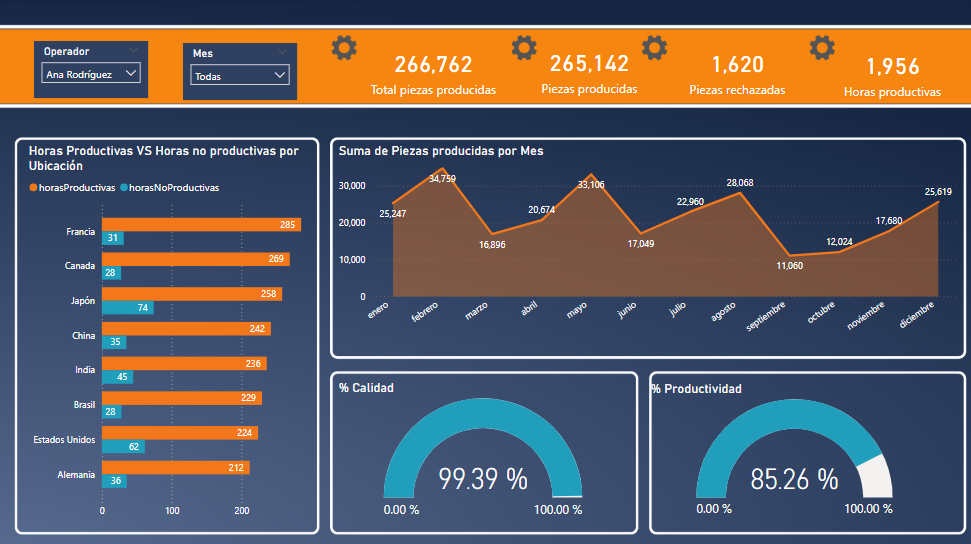

Layout of this report page (visuals, bound fields, positions):
{"tool":"powerbi","page":{"name":"Página 1","canvas":[1280,720],"ordinal":0},"visuals":[{"type":"card","fields":{"Values":["Producción.totalPiezasBuenasProducidas"]},"box":[687.2,26.3,180,132.7],"z":0},{"type":"card","fields":{"Values":["Producción.totalPiezasRechazadas"]},"box":[831.7,27.6,279.9,132.7],"z":1000},{"type":"card","fields":{"Values":["Producción.totalPiezasProducidas"]},"box":[432.3,27.6,279.9,132.7],"z":2000},{"type":"clusteredBarChart","title":"Horas Productivas VS Horas no productivas por Ubicación","fields":{"Category":["Producción.Ubicación"],"Y":["Producción.horasProductivas","Producción.horasNoProductivas"]},"box":[35.8,188.9,377.8,501.6],"z":3000},{"type":"card","fields":{"Values":["Producción.horasProductivas"]},"box":[1083.9,27.6,182.6,136.6],"z":4000},{"type":"areaChart","fields":{"Category":["Producción.Fecha inicio.Variación.Jerarquía de fechas.Mes"],"Y":["Sum(Producción.Piezas producidas)"]},"box":[442.8,189.2,823.8,270.7],"z":5000},{"type":"gauge","fields":{"Y":["Producción.% Calidad"]},"box":[442.8,500.6,388.9,190.5],"z":6000},{"type":"gauge","fields":{"Y":["Producción.% Productividad"]},"box":[853.3,501.6,387.6,188.9],"z":7000},{"type":"slicer","fields":{"Values":["Producción.Operador"]},"box":[47.3,55.2,149.8,74.9],"z":8000},{"type":"slicer","fields":{"Values":["Producción.Fecha inicio.Variación.Jerarquía de fechas.Mes"]},"box":[243.1,57.8,149.8,74.9],"z":9000}]}

Visuals, with their boxes in screenshot pixels (x1, y1, x2, y2), scaled from the page's 1280x720 canvas onto the 971x544 screenshot:
card - Producción.totalPiezasBuenasProducidas: [521, 20, 658, 120]
card - Producción.totalPiezasRechazadas: [631, 21, 843, 121]
card - Producción.totalPiezasProducidas: [328, 21, 540, 121]
"Horas Productivas VS Horas no productivas por Ubicación" clusteredBarChart: [27, 143, 314, 522]
card - Producción.horasProductivas: [822, 21, 961, 124]
areaChart - Producción.Fecha inicio.Variación.Jerarquía de fechas.Mes x Sum(Producción.Piezas producidas): [336, 143, 961, 347]
gauge - Producción.% Calidad: [336, 378, 631, 522]
gauge - Producción.% Productividad: [647, 379, 941, 522]
slicer - Producción.Operador: [36, 42, 150, 98]
slicer - Producción.Fecha inicio.Variación.Jerarquía de fechas.Mes: [184, 44, 298, 100]
